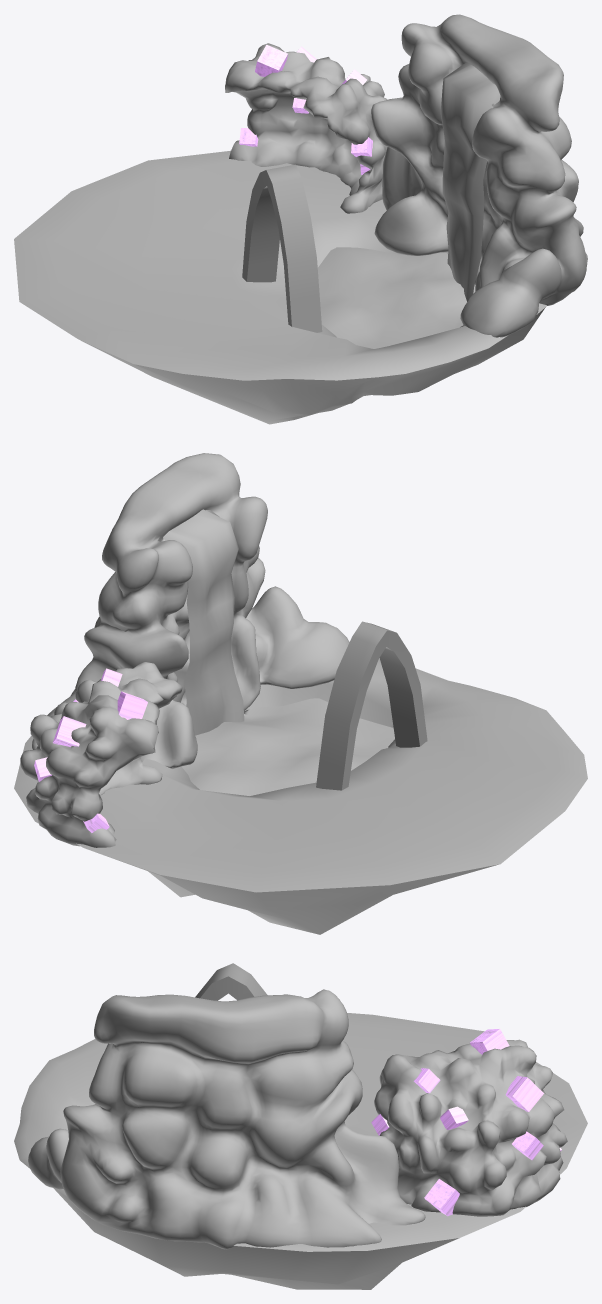
The model's file is cave.fbx.
The picture shows the model from 3 angles, top to bottom: view 1: azimuth 30°, elevation 25°; view 2: azimuth 150°, elevation 25°; view 3: azimuth 270°, elevation 25°; orthographic projection. The views are drawn at different scales.
Visible parts, largest first — view 1: Floor_LowPoly:polySurface1, Big_Rock_LowPoly:Group33451, Cave_LoPoly:Group47064, Water_001, Arch, Water_002, Crystal_003; view 2: Floor_LowPoly:polySurface1, Big_Rock_LowPoly:Group33451, Cave_LoPoly:Group47064, Water_001, Water_002, Arch, Crystal_003; view 3: Big_Rock_LowPoly:Group33451, Floor_LowPoly:polySurface1, Cave_LoPoly:Group47064, Arch, Crystal_001, Crystal_004, Crystal_003, Crystal_010, Crystal_011.
Part boxes in pixels (x1,y1,x2,y2): Floor_LowPoly:polySurface1: (14, 150, 546, 424); Big_Rock_LowPoly:Group33451: (371, 14, 587, 337); Cave_LoPoly:Group47064: (225, 43, 387, 213); Water_001: (317, 247, 475, 348); Arch: (242, 164, 322, 332); Water_002: (440, 62, 500, 301); Crystal_003: (255, 44, 287, 76); Floor_LowPoly:polySurface1: (14, 659, 587, 934); Big_Rock_LowPoly:Group33451: (32, 453, 349, 768); Cave_LoPoly:Group47064: (20, 662, 182, 847); Water_001: (181, 698, 394, 795); Water_002: (163, 509, 244, 735); Arch: (316, 621, 427, 790); Crystal_003: (117, 691, 147, 719); Big_Rock_LowPoly:Group33451: (28, 989, 425, 1249); Floor_LowPoly:polySurface1: (14, 1013, 587, 1289); Cave_LoPoly:Group47064: (374, 1039, 567, 1216); Arch: (195, 963, 267, 1000); Crystal_001: (505, 1076, 543, 1111); Crystal_004: (424, 1179, 459, 1216); Crystal_003: (470, 1029, 509, 1054); Crystal_010: (512, 1131, 543, 1160); Crystal_011: (440, 1106, 468, 1129).
Bounding box in the file's own units: 2322 × 1610 × 2311.
